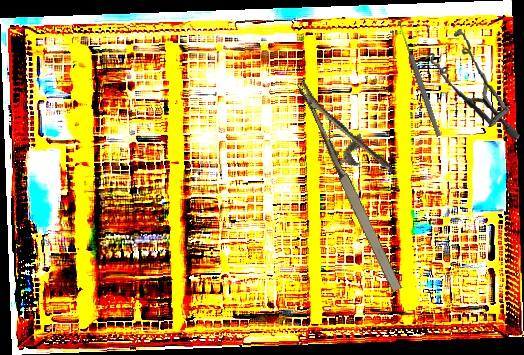Needle Holder: (296, 61, 437, 295)
Speculum: (421, 24, 521, 147)
Surgical Spoon: (395, 19, 443, 138)
